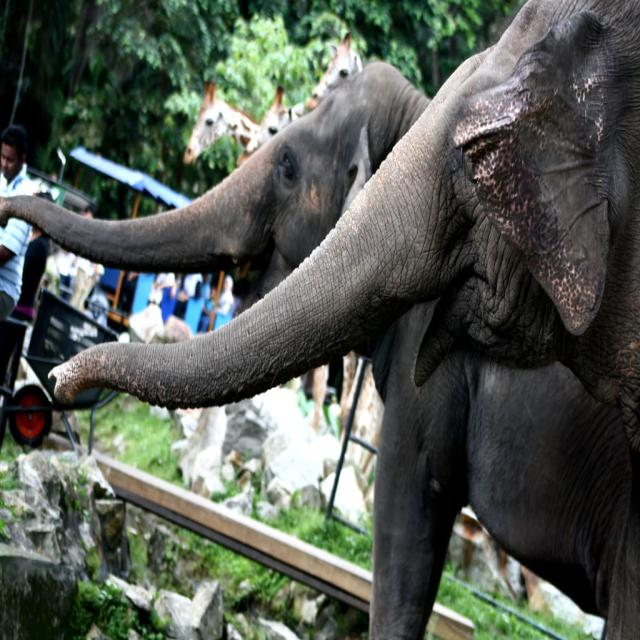Elephant: (2, 2, 639, 637)
